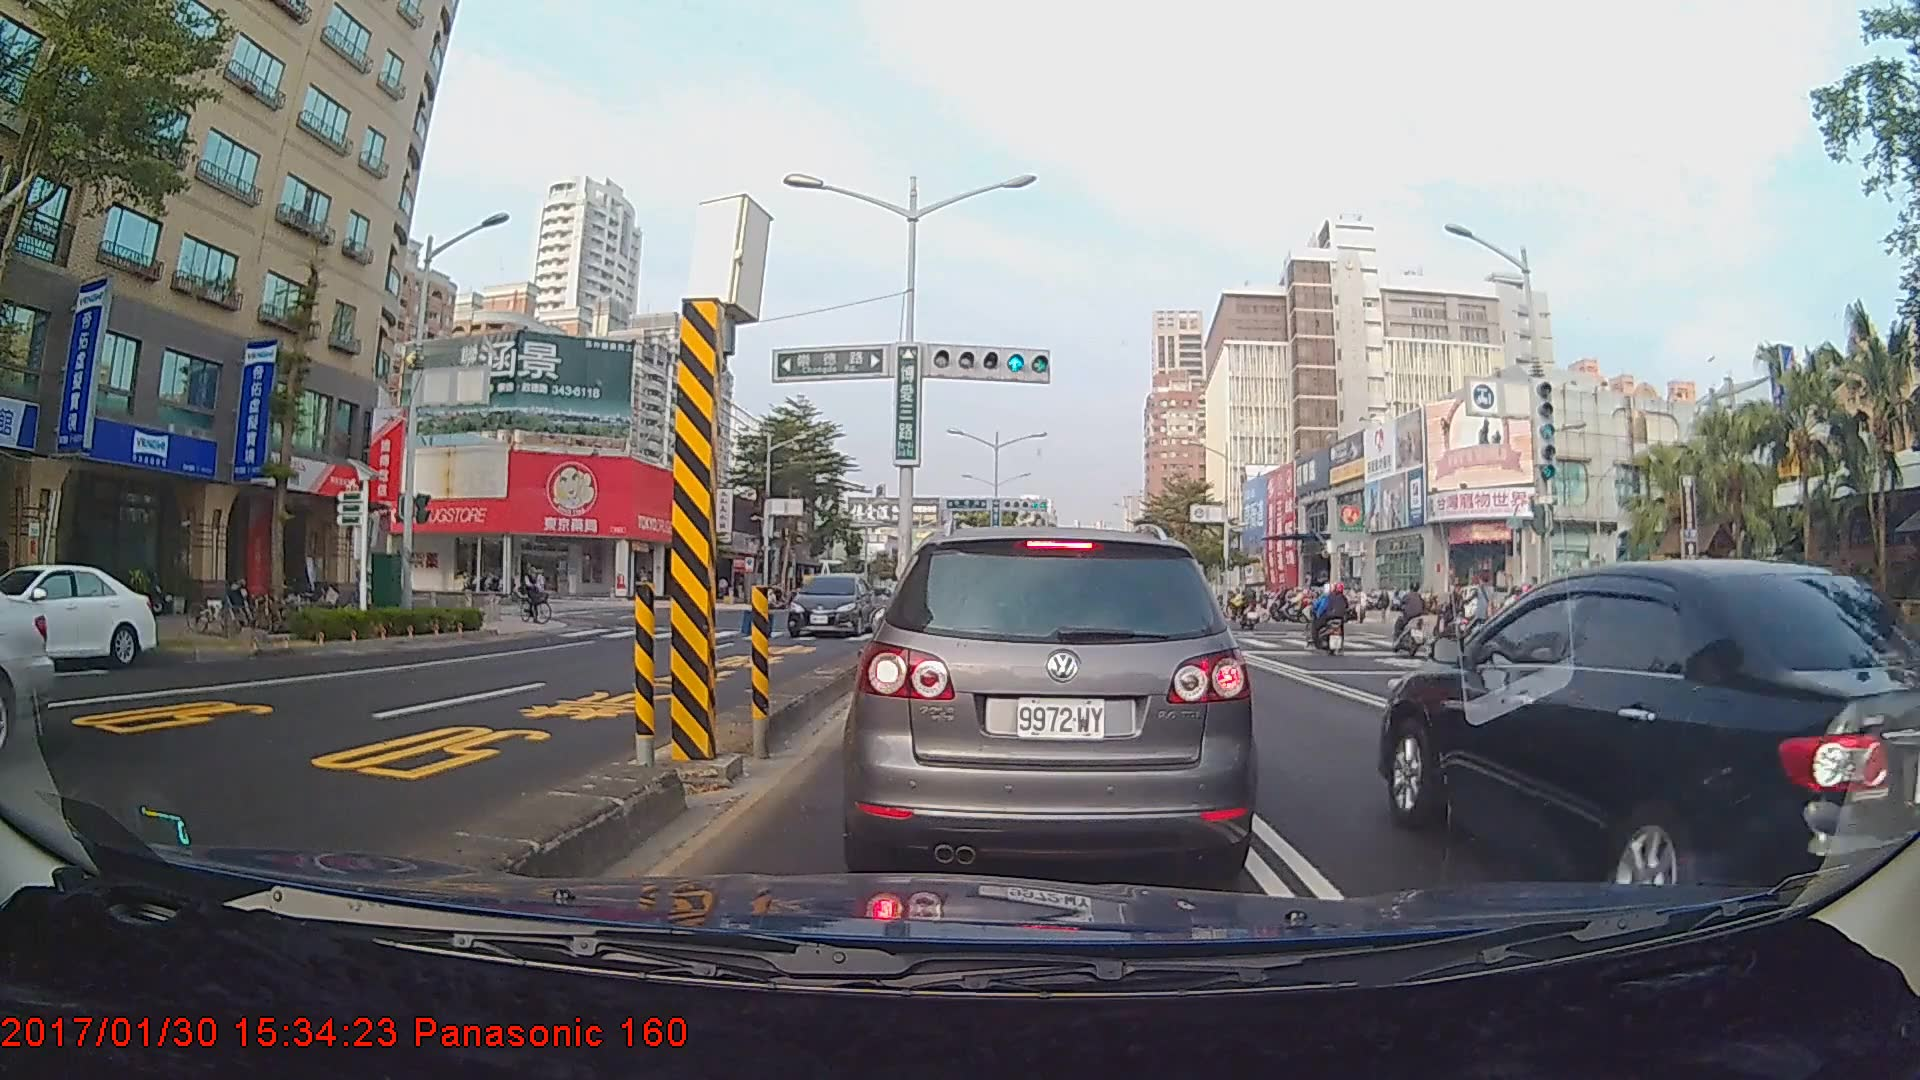rider: (1463, 570, 1517, 666), (1305, 581, 1359, 660), (1392, 580, 1441, 658), (518, 559, 561, 629)
vehicle: (1378, 551, 1916, 884), (851, 522, 1250, 883), (0, 561, 157, 671), (786, 571, 877, 636)
